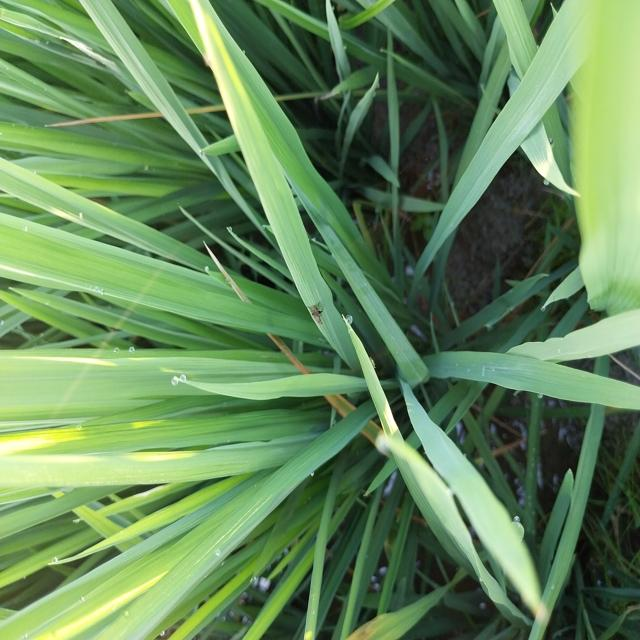healthy: (300, 295, 335, 333)
